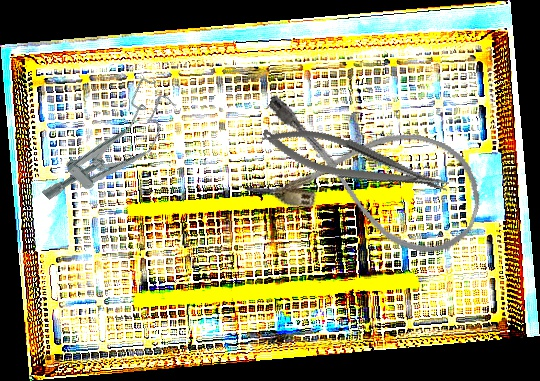Cannula: (240, 88, 495, 265)
Needle Holder: (257, 113, 453, 212)
Speculum: (33, 72, 188, 226)
